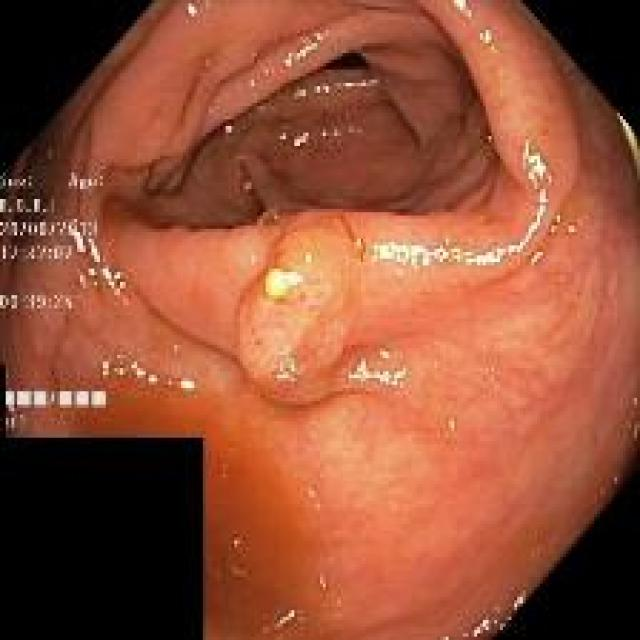Polyps: (239, 215, 352, 403)
